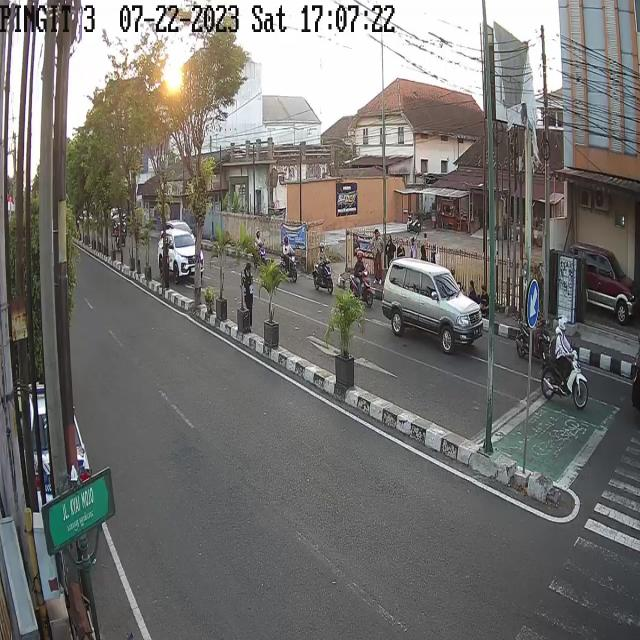car: (382, 256, 487, 356), (575, 245, 636, 326), (158, 230, 206, 288), (164, 220, 199, 262)
motorcycle: (541, 312, 587, 414), (516, 301, 548, 361), (349, 251, 374, 310), (276, 234, 298, 280), (313, 242, 332, 292), (252, 228, 266, 268)
